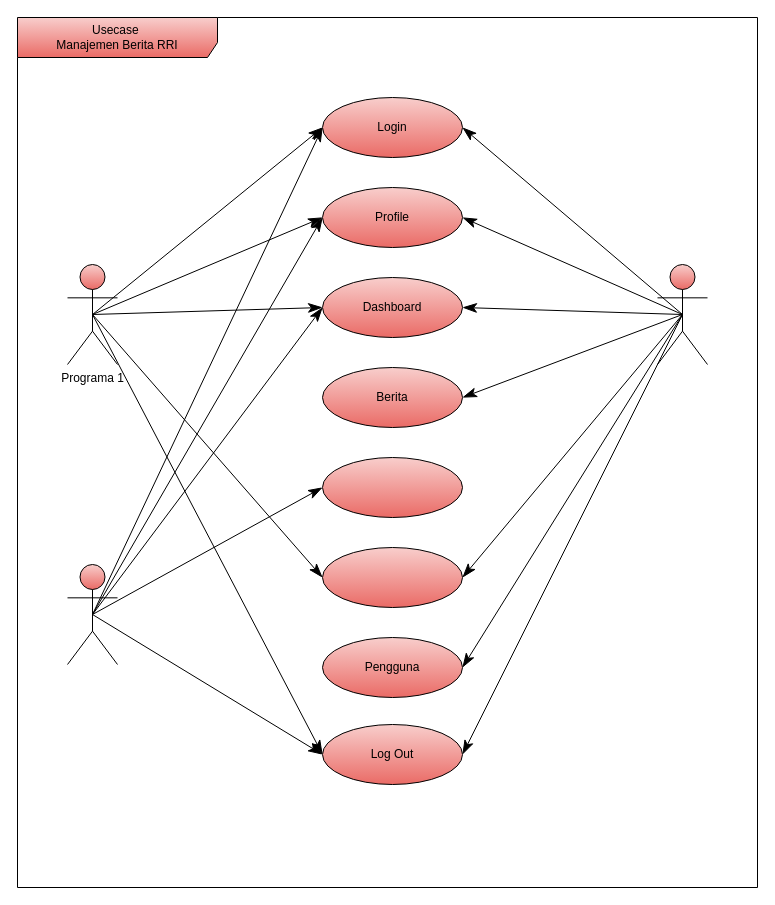
Image size: 775x905. Some labels were removed from this diagram. The shapes that lost their labels are listed below. From the top down, each one's centre as x and y in pixels, then its label:
pixel 682 314: Editor
pixel 392 487: Upload Berita
pixel 392 577: Laporan Berita
pixel 92 614: Reporter
